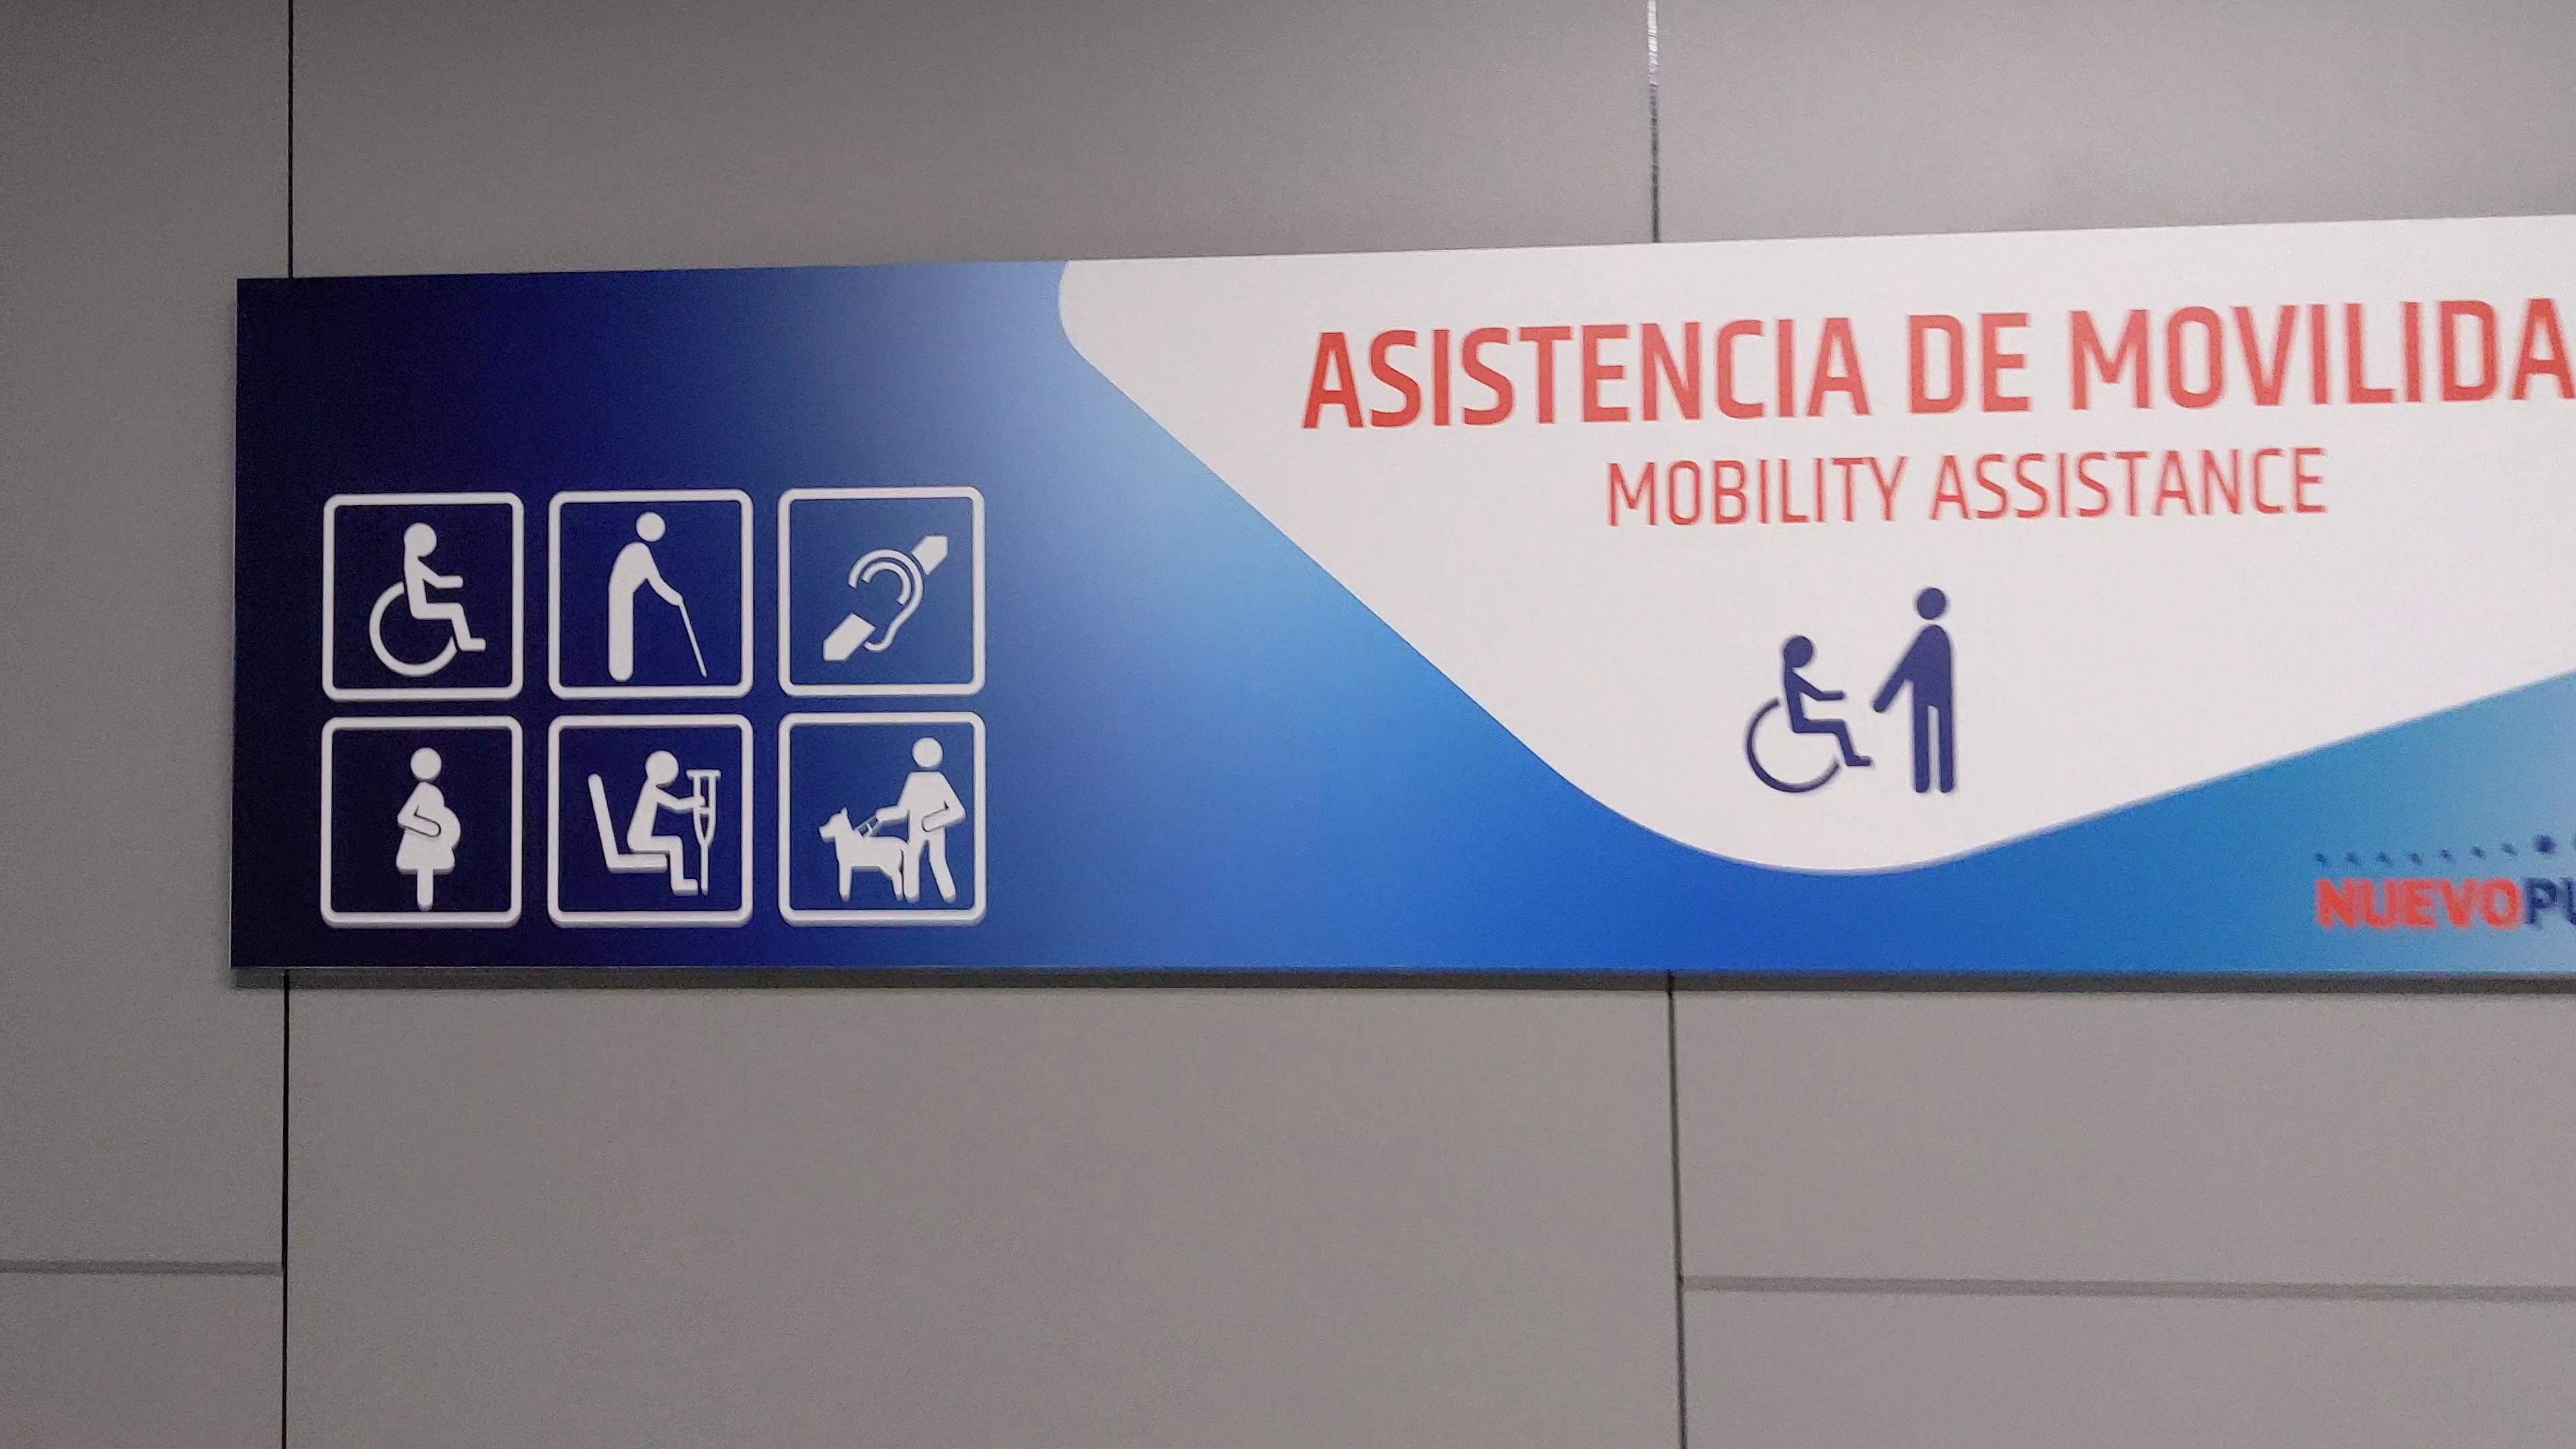handicapped symbol: (1737, 626, 1874, 798), (363, 518, 490, 679)
